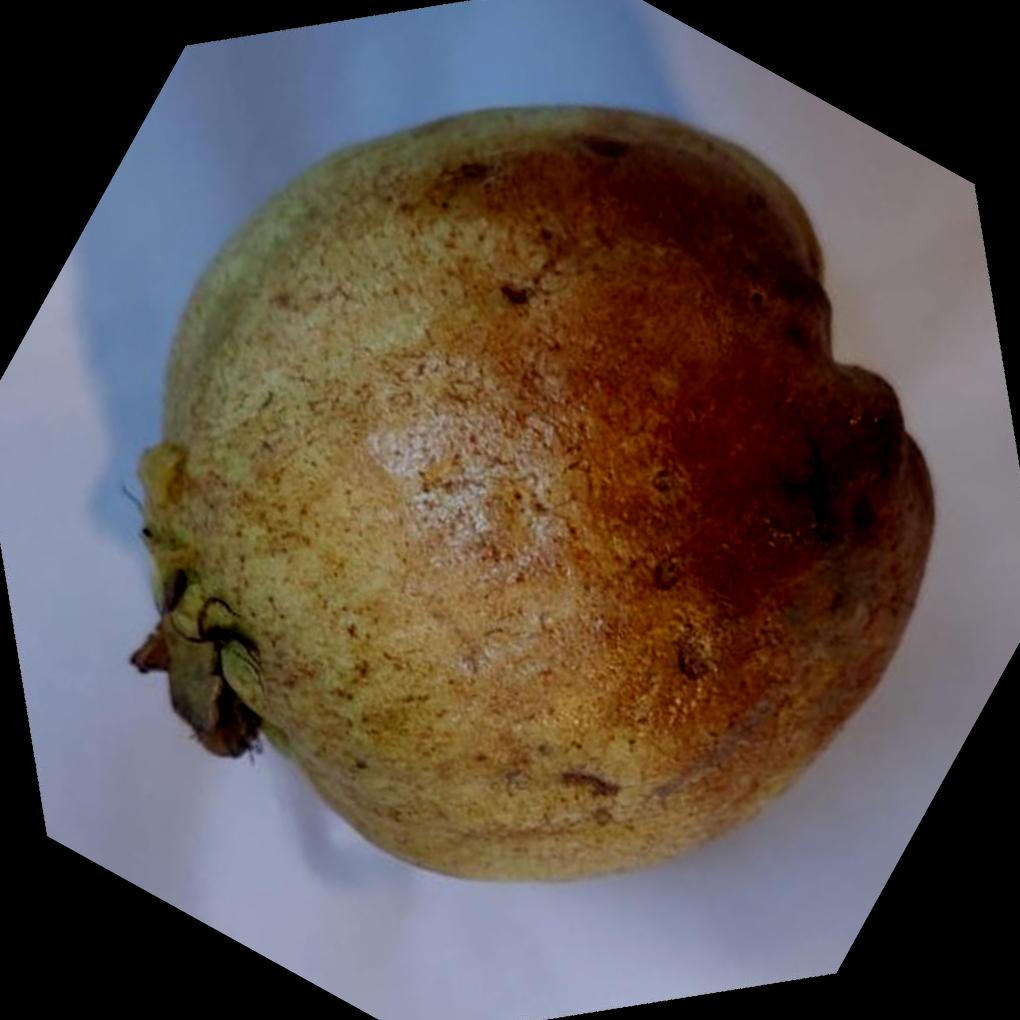FreshOrange: (127, 101, 937, 885)
